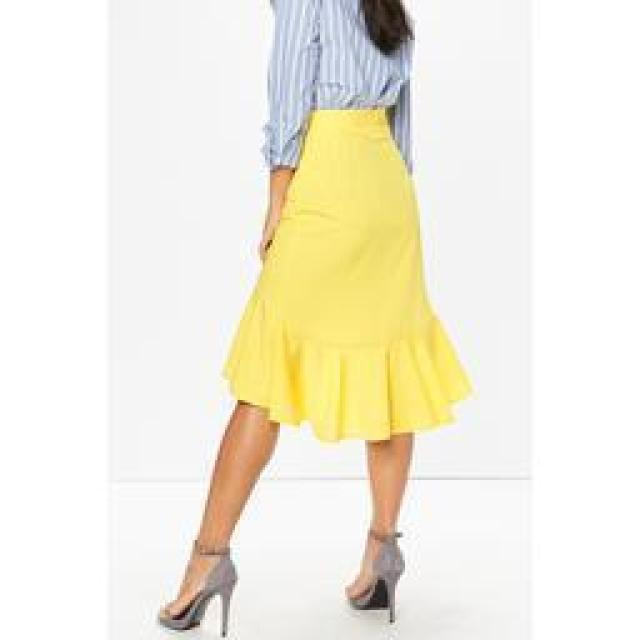skirt: (224, 107, 471, 445)
